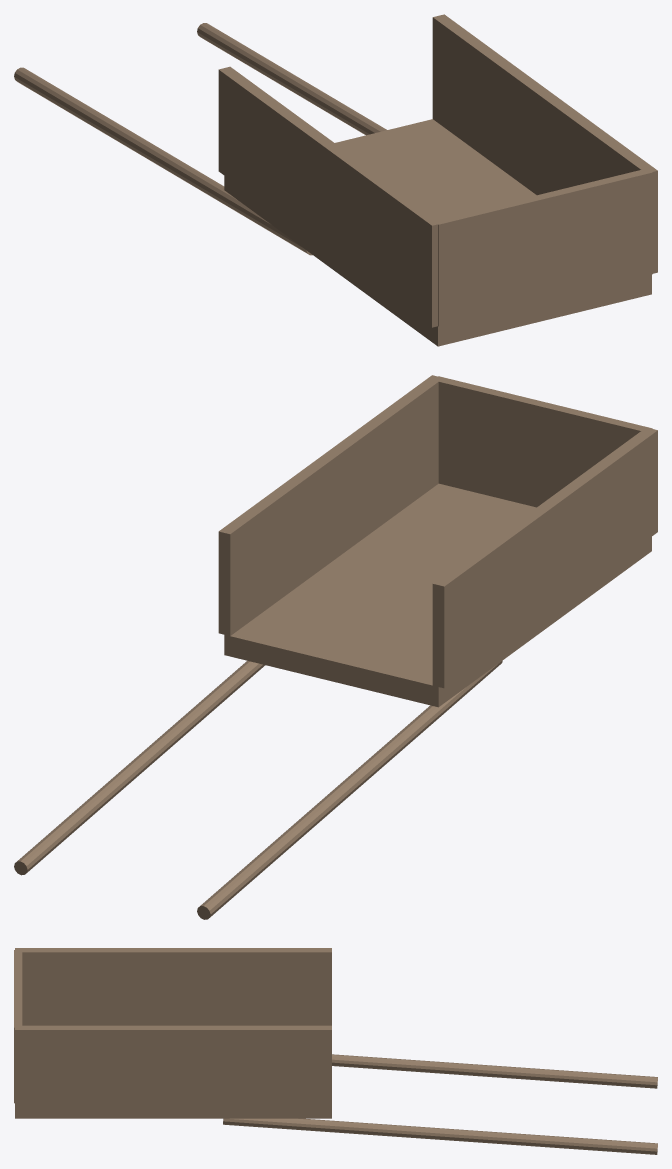
File: VH-CART.glb
3 views of the same model, one above another, from view 1: azimuth 30°, elevation 25°; view 2: azimuth 150°, elevation 25°; view 3: azimuth 270°, elevation 25° (orthographic). The views are drawn at different scales.
Parts seen in each view (by area): view 1: left_rail, rear_board, right_rail, bed, shaft (×2); view 2: bed, left_rail, right_rail, rear_board, shaft (×2); view 3: right_rail, left_rail, shaft (×2), bed, rear_board.
Part boxes in pixels (x1,y1,x2,y2): left_rail: (218, 66, 443, 327); rear_board: (436, 169, 652, 326); right_rail: (432, 14, 657, 273); bed: (224, 119, 651, 346); shaft (×2): (14, 23, 386, 255); bed: (224, 483, 651, 707); left_rail: (432, 427, 657, 688); right_rail: (218, 375, 443, 635); rear_board: (434, 376, 652, 507); shaft (×2): (14, 661, 502, 919); right_rail: (15, 1025, 331, 1105); left_rail: (15, 948, 331, 1025); shaft (×2): (223, 1054, 657, 1154); bed: (15, 1105, 331, 1118); rear_board: (14, 950, 22, 1103).
Size of the model in its own units: 1.16 by 0.8749 by 3.86.
